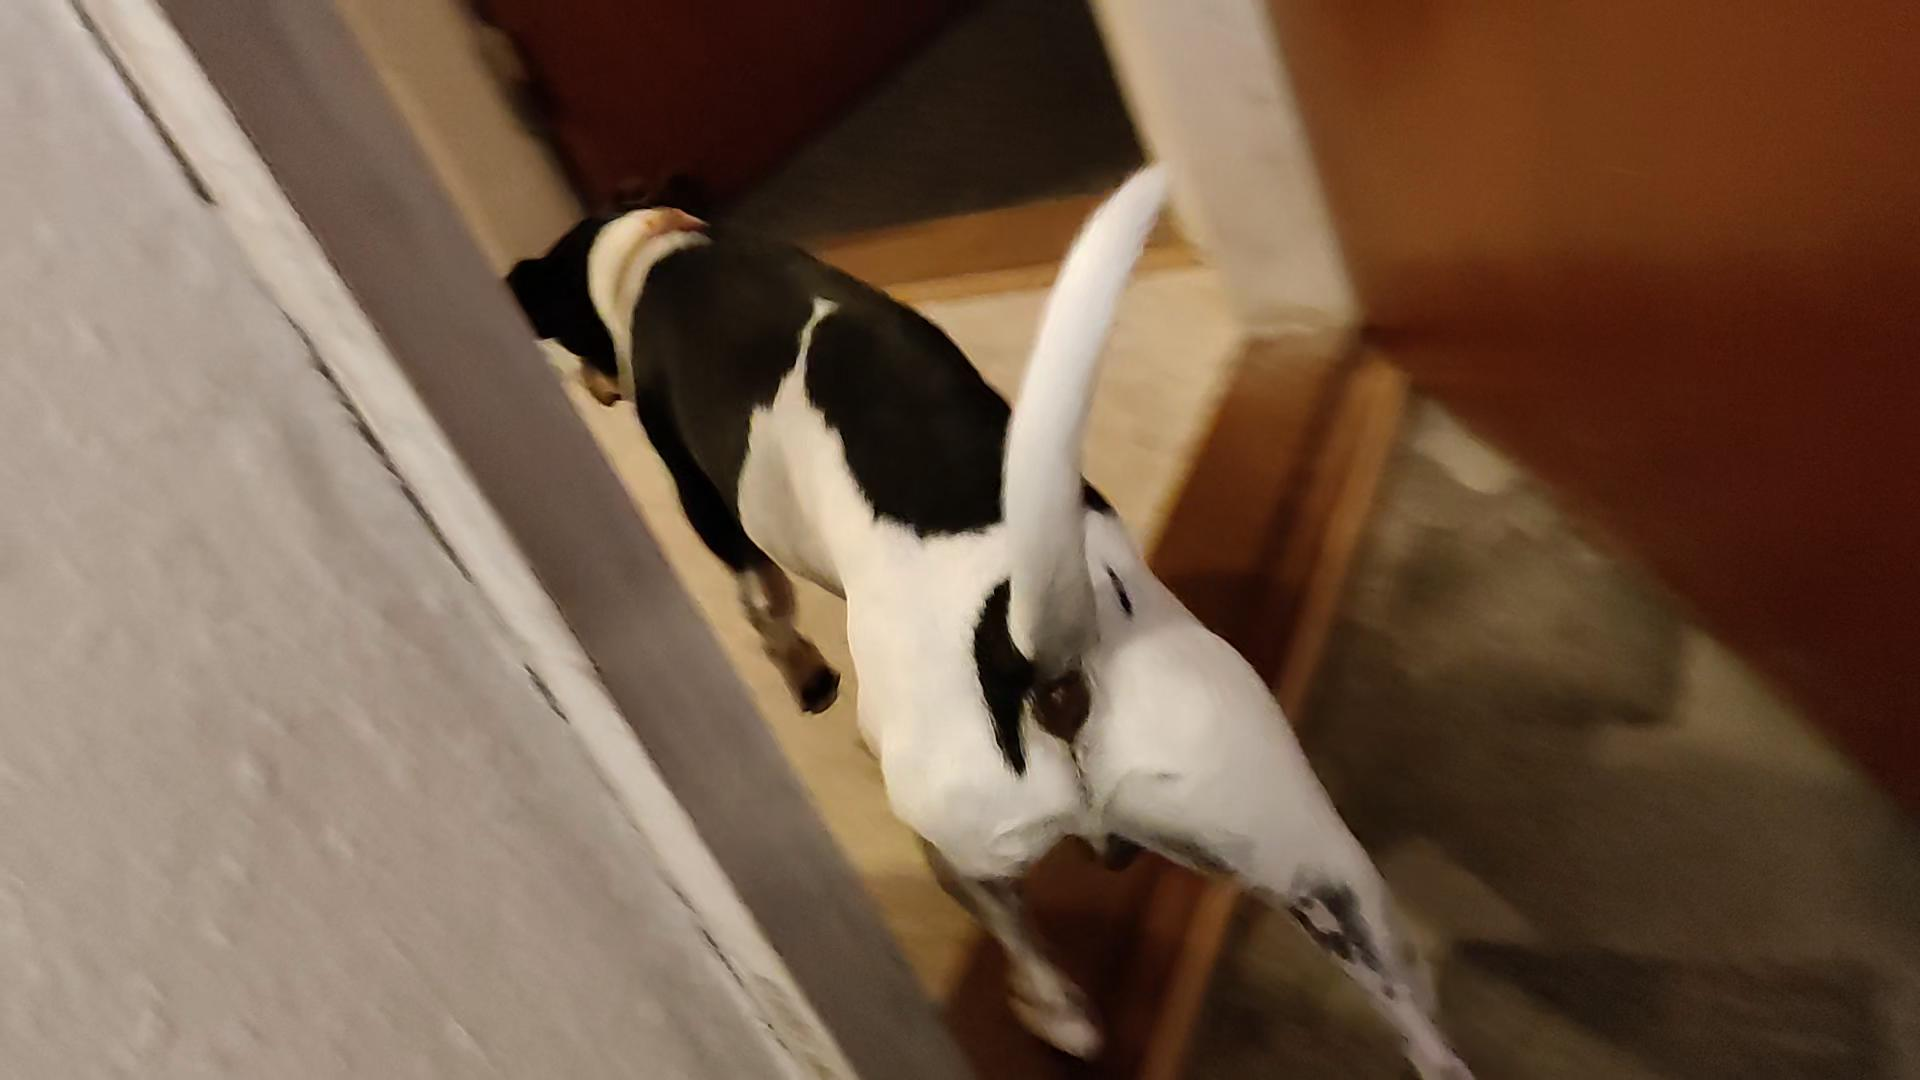Dog: (464, 136, 1493, 1079)
